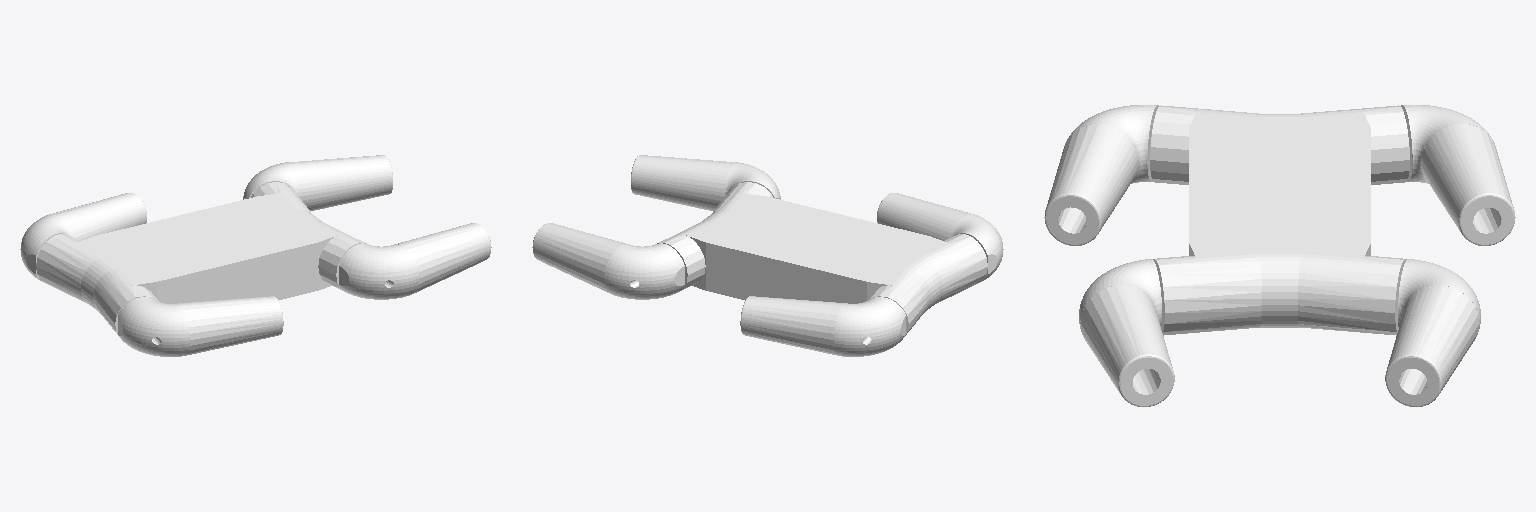
The robot description file, URDF, robot "11_degree":
<?xml version="1.0" encoding="utf-8"?>
<!-- This URDF was automatically created by SolidWorks to URDF Exporter! Originally created by [author] ([email redacted]) 
     Commit Version: 1.5.1-0-g916b5db  Build Version: 1.5.7152.31018
     For more information, please see http://wiki.ros.org/sw_urdf_exporter -->
<robot
  name="11_degree">
  <link
    name="base_link">
    <inertial>
      <origin
        xyz="-6.9389E-18 4.0348E-08 6.9389E-18"
        rpy="0 0 0" />
      <mass
        value="2.803" />
      <inertia
        ixx="0.010140523"
        ixy="-1.7569E-18"
        ixz="-8.6014E-11"
        iyy="0.039068311"
        iyz="-5.1248E-18"
        izz="0.046845831" />
    </inertial>
    <visual>
      <origin
        xyz="0 0 0"
        rpy="0 0 0" />
      <geometry>
        <mesh
          filename="package://11_degree/meshes/base_link.STL" />
      </geometry>
      <material
        name="">
        <color
          rgba="1 1 1 1" />
      </material>
    </visual>
    <collision>
      <origin
        xyz="0 0 0"
        rpy="0 0 0" />
      <geometry>
        <mesh
          filename="package://11_degree/meshes/base_link.STL" />
      </geometry>
    </collision>
  </link>
  <link
    name="left_fromt_link">
    <inertial>
      <origin
        xyz="-2.4804E-08 0.063394 -0.024392"
        rpy="0 0 0" />
      <mass
        value="0.0858" />
      <inertia
        ixx="0.000247663"
        ixy="6.5375E-10"
        ixz="9.4557E-10"
        iyy="0.000048089"
        iyz="-1.7041E-05"
        izz="0.000245818" />
    </inertial>
    <visual>
      <origin
        xyz="0 0 0"
        rpy="0 0 0" />
      <geometry>
        <mesh
          filename="package://11_degree/meshes/left_fromt_link.STL" />
      </geometry>
      <material
        name="">
        <color
          rgba="1 1 1 1" />
      </material>
    </visual>
    <collision>
      <origin
        xyz="0 0 0"
        rpy="0 0 0" />
      <geometry>
        <mesh
          filename="package://11_degree/meshes/left_fromt_link.STL" />
      </geometry>
    </collision>
  </link>
  <joint
    name="left_front_leg"
    type="continuous">
    <origin
      xyz="0.14965 0.10111 0"
      rpy="1.5708 1.5708 0" />
    <parent
      link="base_link" />
    <child
      link="left_fromt_link" />
    <axis
      xyz="0 0.19081 -0.98163" />
    <limit
      effort="5"
      velocity="487" />
  </joint>
  <link
    name="right_front_link">
    <inertial>
      <origin
        xyz="2.4804E-08 0.063394 0.024392"
        rpy="0 0 0" />
      <mass
        value="0.0858" />
      <inertia
        ixx="0.000247663"
        ixy="-6.5375E-10"
        ixz="9.4557E-10"
        iyy="0.000048089"
        iyz="1.7041E-05"
        izz="0.000245818" />
    </inertial>
    <visual>
      <origin
        xyz="0 0 0"
        rpy="0 0 0" />
      <geometry>
        <mesh
          filename="package://11_degree/meshes/right_front_link.STL" />
      </geometry>
      <material
        name="">
        <color
          rgba="1 1 1 1" />
      </material>
    </visual>
    <collision>
      <origin
        xyz="0 0 0"
        rpy="0 0 0" />
      <geometry>
        <mesh
          filename="package://11_degree/meshes/right_front_link.STL" />
      </geometry>
    </collision>
  </link>
  <joint
    name="right_front_leg"
    type="continuous">
    <origin
      xyz="0.14965 -0.10111 0"
      rpy="1.5708 1.5708 0" />
    <parent
      link="base_link" />
    <child
      link="right_front_link" />
    <axis
      xyz="0 0.19081 0.98163" />
    <limit
      effort="5"
      velocity="487" />
  </joint>
  <link
    name="right_back_link">
    <inertial>
      <origin
        xyz="-1.0069E-09 0.057576 0.036039"
        rpy="0 0 0" />
      <mass
        value="0.0858" />
      <inertia
        ixx="0.000247663"
        ixy="-5.3916E-10"
        ixz="5.8726E-10"
        iyy="0.000048904"
        iyz="-2.1235E-05"
        izz="0.000245003" />
    </inertial>
    <visual>
      <origin
        xyz="0 0 0"
        rpy="0 0 0" />
      <geometry>
        <mesh
          filename="package://11_degree/meshes/right_back_link.STL" />
      </geometry>
      <material
        name="">
        <color
          rgba="1 1 1 1" />
      </material>
    </visual>
    <collision>
      <origin
        xyz="0 0 0"
        rpy="0 0 0" />
      <geometry>
        <mesh
          filename="package://11_degree/meshes/right_back_link.STL" />
      </geometry>
    </collision>
  </link>
  <joint
    name="right_back_leg"
    type="continuous">
    <origin
      xyz="-0.14965 -0.10111 0"
      rpy="1.7628 1.5708 0" />
    <parent
      link="base_link" />
    <child
      link="right_back_link" />
    <axis
      xyz="0 0 1" />
    <limit
      effort="5"
      velocity="487" />
  </joint>
  <link
    name="left_back_link">
    <inertial>
      <origin
        xyz="1.0069E-09 0.049641 -0.046363"
        rpy="0 0 0" />
      <mass
        value="0.0858" />
      <inertia
        ixx="0.000247663"
        ixy="6.4131E-10"
        ixz="4.736E-10"
        iyy="0.000063998"
        iyz="0.000056418"
        izz="0.000229908" />
    </inertial>
    <visual>
      <origin
        xyz="0 0 0"
        rpy="0 0 0" />
      <geometry>
        <mesh
          filename="package://11_degree/meshes/left_back_link.STL" />
      </geometry>
      <material
        name="">
        <color
          rgba="1 1 1 1" />
      </material>
    </visual>
    <collision>
      <origin
        xyz="0 0 0"
        rpy="0 0 0" />
      <geometry>
        <mesh
          filename="package://11_degree/meshes/left_back_link.STL" />
      </geometry>
    </collision>
  </link>
  <joint
    name="left_back_leg"
    type="continuous">
    <origin
      xyz="-0.14965 0.10111 0"
      rpy="1.5708 1.5708 0" />
    <parent
      link="base_link" />
    <child
      link="left_back_link" />
    <axis
      xyz="0 -0.19081 -0.98163" />
    <limit
      effort="5"
      velocity="487" />
  </joint>
</robot>

--- Render facts (derived) ---
3 views of the same robot in one strip: view 1: azimuth 30°, elevation 25°; view 2: azimuth 150°, elevation 25°; view 3: azimuth 270°, elevation 25° (orthographic).
Model 11_degree with 5 links and 4 joints (4 continuous), rooted at base_link, posed every joint at zero.
Links seen in each view (by area): view 1: base_link, right_back_link, right_front_link, left_fromt_link, left_back_link; view 2: base_link, left_back_link, left_fromt_link, right_front_link, right_back_link; view 3: base_link, right_back_link, left_back_link, left_fromt_link, right_front_link.
Link boxes in pixels (x1,y1,x2,y2): base_link: [36, 182, 366, 334]; right_back_link: [118, 296, 283, 356]; right_front_link: [339, 223, 491, 299]; left_fromt_link: [243, 155, 392, 210]; left_back_link: [20, 193, 146, 281]; base_link: [657, 182, 987, 334]; left_back_link: [740, 296, 905, 356]; left_fromt_link: [532, 223, 684, 299]; right_front_link: [631, 155, 780, 210]; right_back_link: [877, 193, 1003, 281]; base_link: [1150, 105, 1409, 335]; right_back_link: [1044, 105, 1158, 245]; left_back_link: [1401, 105, 1515, 245]; left_fromt_link: [1385, 259, 1480, 406]; right_front_link: [1079, 259, 1174, 406].
Size in the robot's own frame: 0.5014 by 0.3887 by 0.064 metres.
5 mesh visuals loaded from 5 distinct referenced files (5 binary STL).